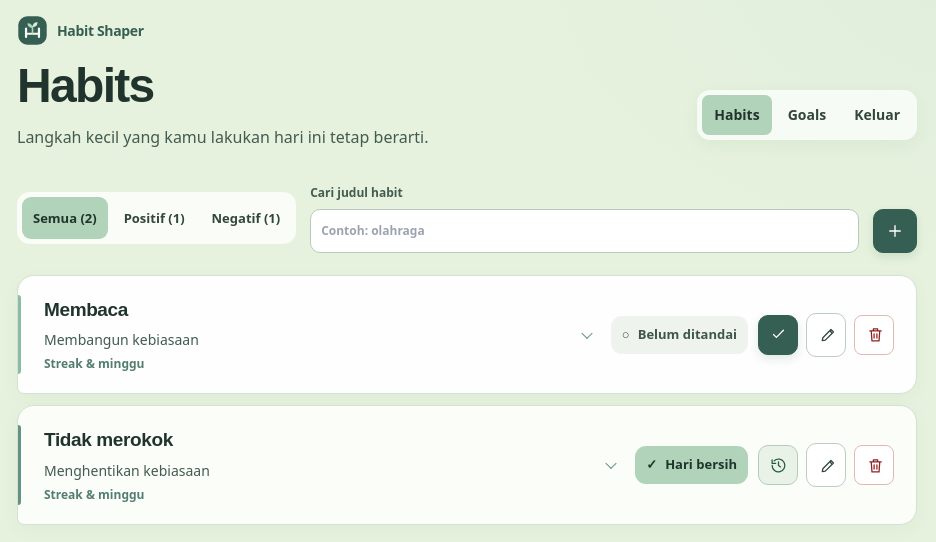
Test: today habit list › UI-15 filters and searches the loaded habit list without more requests
Expected: the text "Membaca" is shown, 44,299 -> 128,320
Click the button "Positif (1)". click: (154, 218)
box: 113,198 -> 196,240
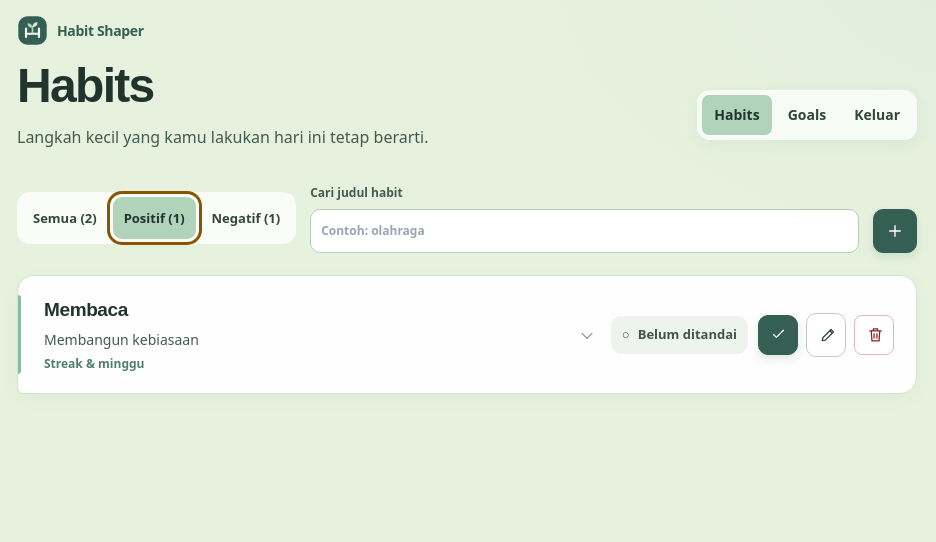
Expected: the text "Membaca" is shown, 44,299 -> 128,320
Expected: the button "Tidak merokok" is gone
Click the button "Semua (2)". click: (65, 218)
box: 22,198 -> 108,240
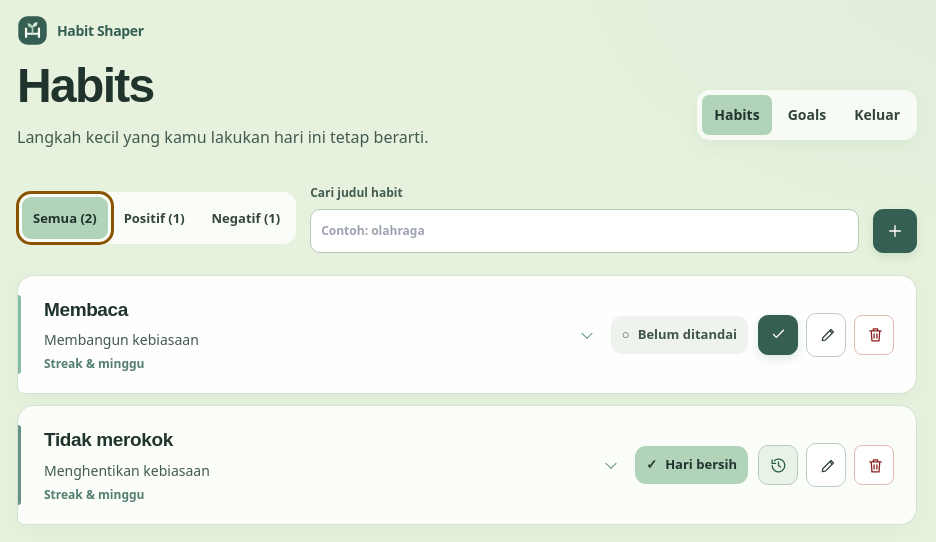
Type "merokok" into the search field labelled "Cari judul habit". click: (585, 231)
box: 310,209 -> 859,253
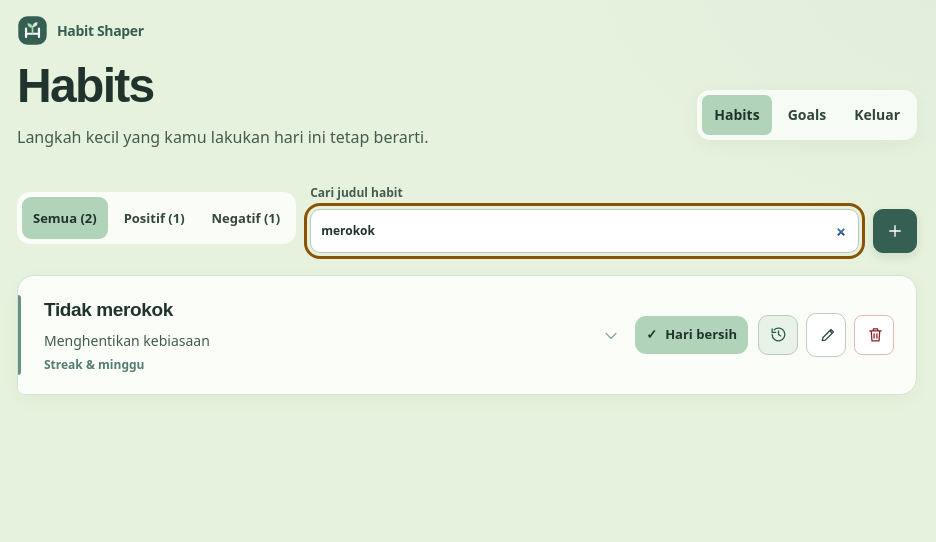
Expected: the text "Tidak merokok" is shown, 44,299 -> 173,320
Expected: the button "Membaca" is gone
